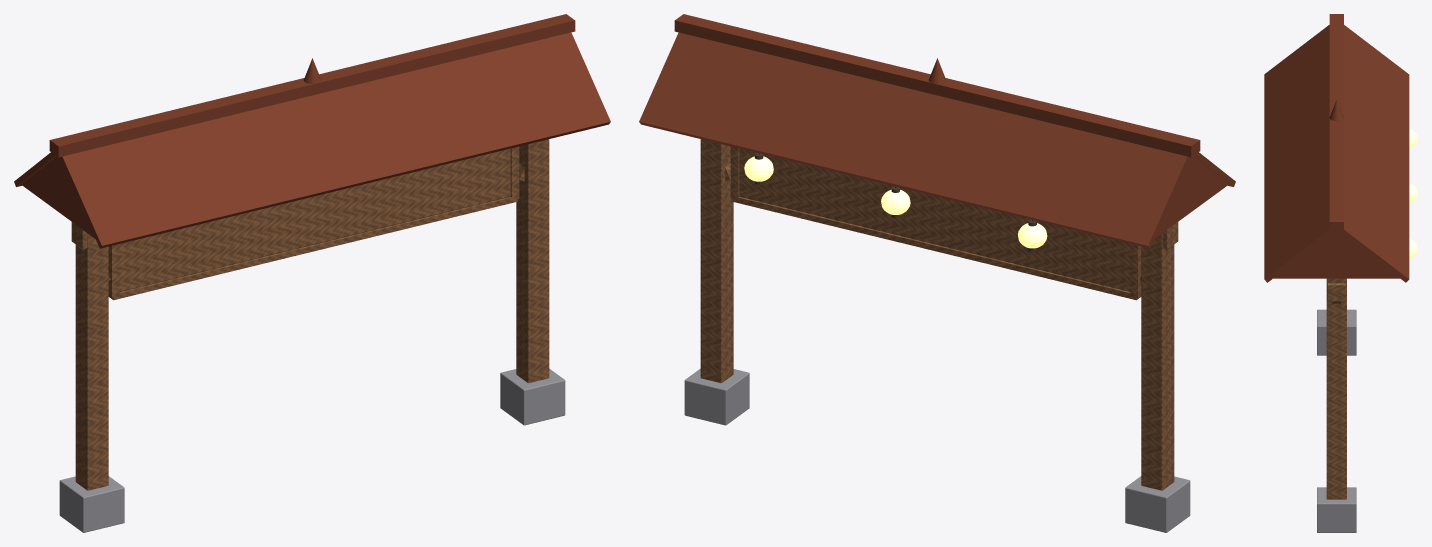
Rendered from gerbang-pasar-blender-v1.glb.
The picture shows the model from 3 angles, left to right: view 1: azimuth 30°, elevation 25°; view 2: azimuth 150°, elevation 25°; view 3: azimuth 270°, elevation 25°; orthographic projection. The views are drawn at different scales.
Visible parts, largest first — view 1: roof, wood, wood_dark, stone; view 2: roof, wood, wood_dark, stone, paper; view 3: roof, wood, stone, paper.
Boxes of the visible parts, x1,y1,x2,y2 form: roof: [14, 14, 610, 248]; wood: [71, 139, 549, 490]; wood_dark: [119, 148, 510, 291]; stone: [59, 368, 565, 532]; roof: [639, 14, 1235, 248]; wood: [700, 139, 1178, 490]; wood_dark: [739, 148, 1130, 291]; stone: [684, 368, 1190, 532]; paper: [744, 156, 1047, 248]; roof: [1264, 14, 1409, 282]; wood: [1326, 278, 1346, 499]; stone: [1317, 309, 1356, 532]; paper: [1409, 128, 1417, 258].
Size of the model in its own units: 6.8 by 5.13 by 2.12.
Materials: 6 (2 with a texture image).
